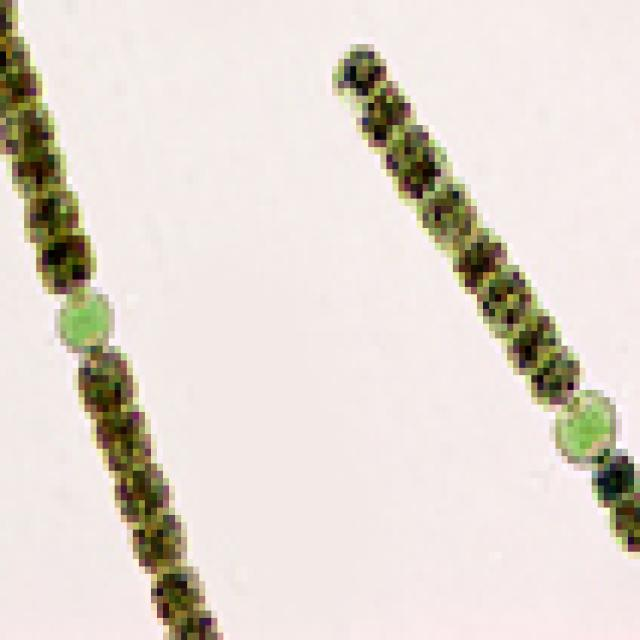Blue Green Algae: (374, 125, 453, 199), (471, 265, 537, 331), (356, 81, 417, 147), (103, 471, 181, 522), (495, 309, 562, 368), (411, 184, 477, 243), (30, 236, 97, 294), (326, 36, 386, 96), (72, 353, 133, 412), (453, 228, 507, 294), (145, 559, 205, 618), (519, 353, 580, 405), (127, 515, 187, 566), (18, 192, 85, 236), (591, 448, 640, 507), (6, 96, 54, 154), (6, 147, 66, 191), (84, 412, 151, 441), (103, 441, 145, 471), (6, 74, 42, 103)
